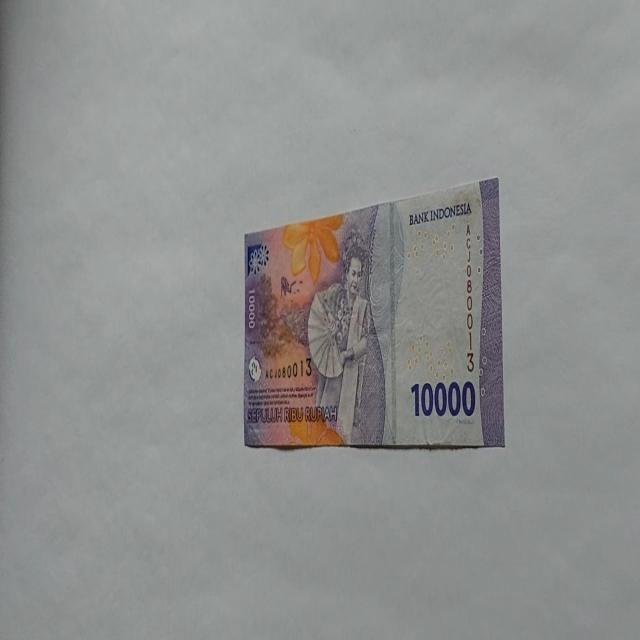Kertas: (242, 175, 504, 451), (410, 378, 476, 418)
